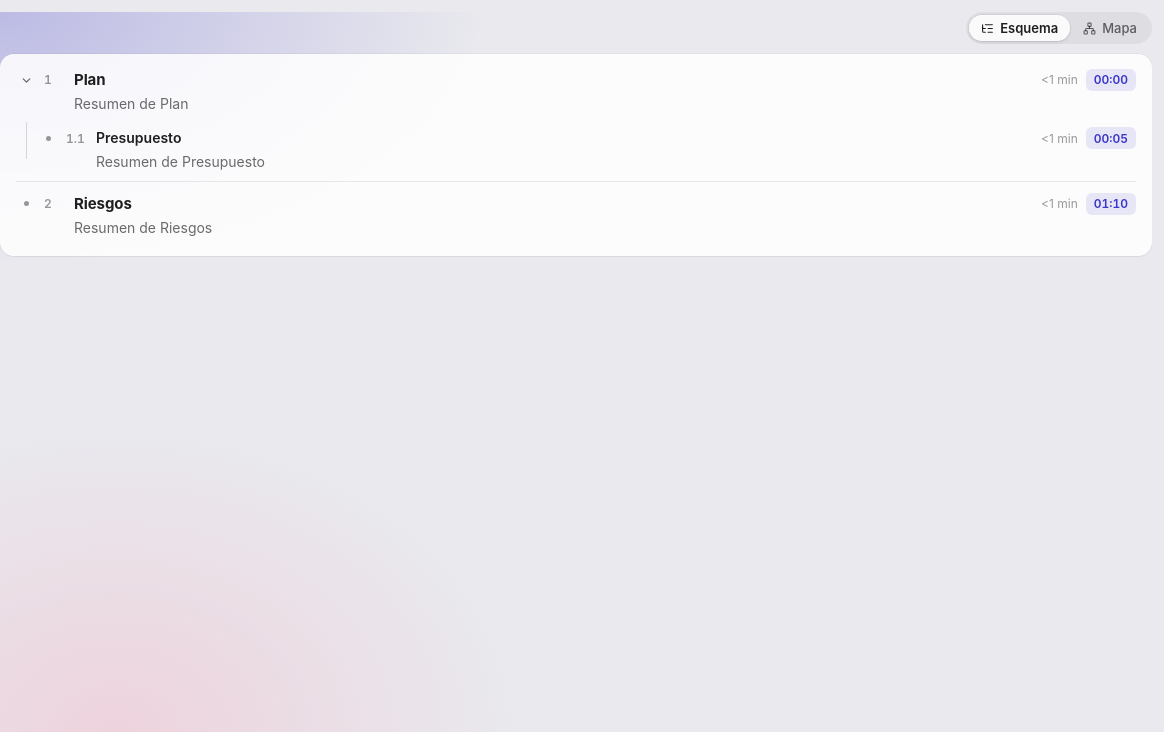
mapa de la escaleta › cambia a la vista de mapa y cada nodo salta a su minuto
Click the button "Mapa" at (1110, 28), box [1071, 15, 1149, 41]
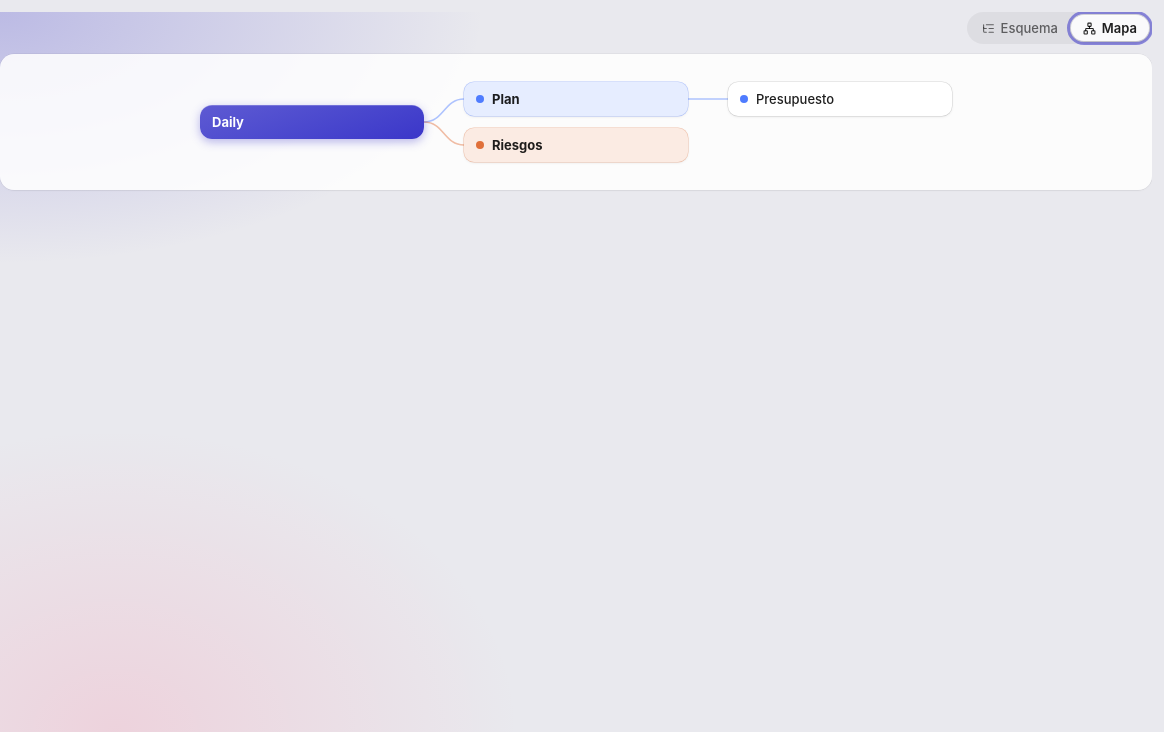
Expected: the element named "Mapa de la escaleta" shows "Daily", [212, 114, 244, 130]
Click the button with aria-label "Presupuesto (00:05)" at (840, 99), box [728, 82, 952, 116]
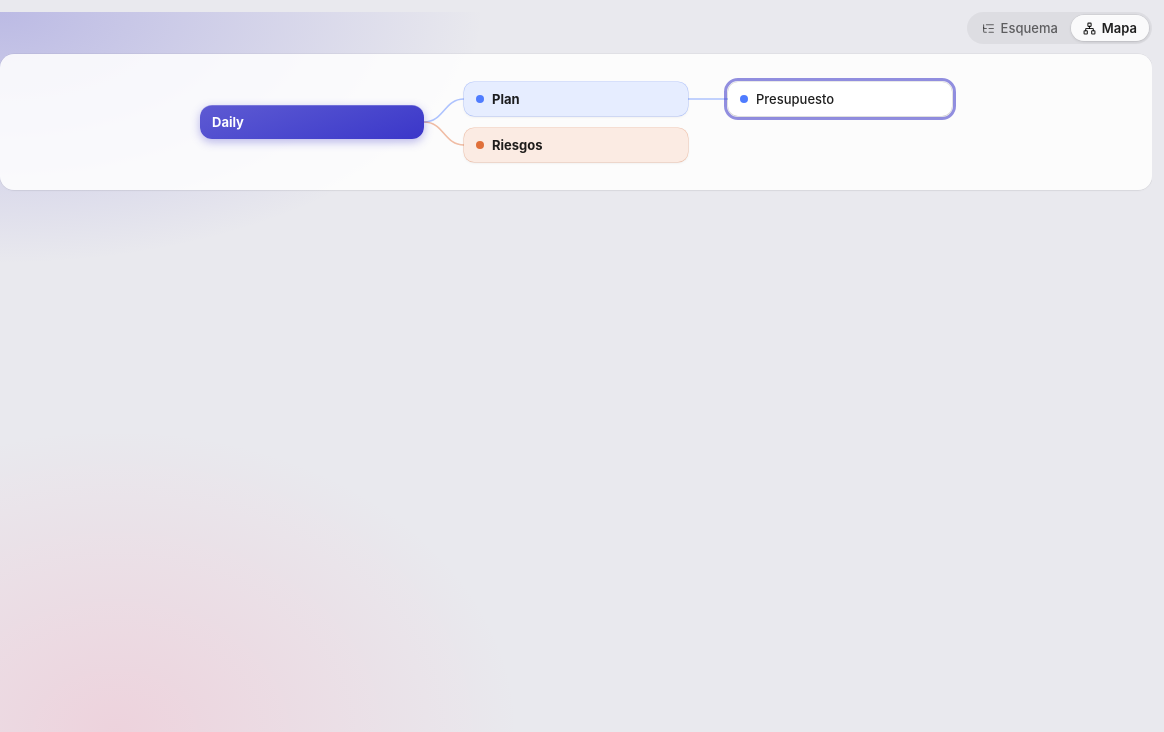
Click the button "Esquema" at (1020, 28), box [970, 15, 1070, 41]
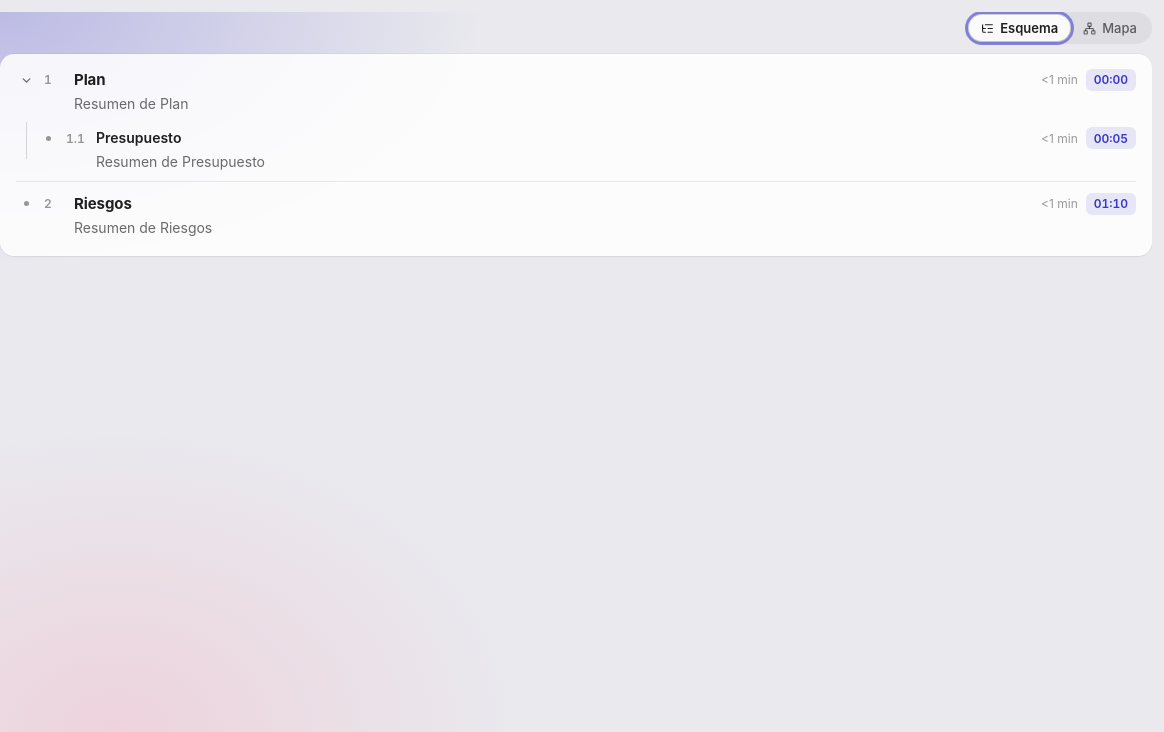
Expected: the list named "Escaleta" is shown, [0, 54, 1152, 256]
